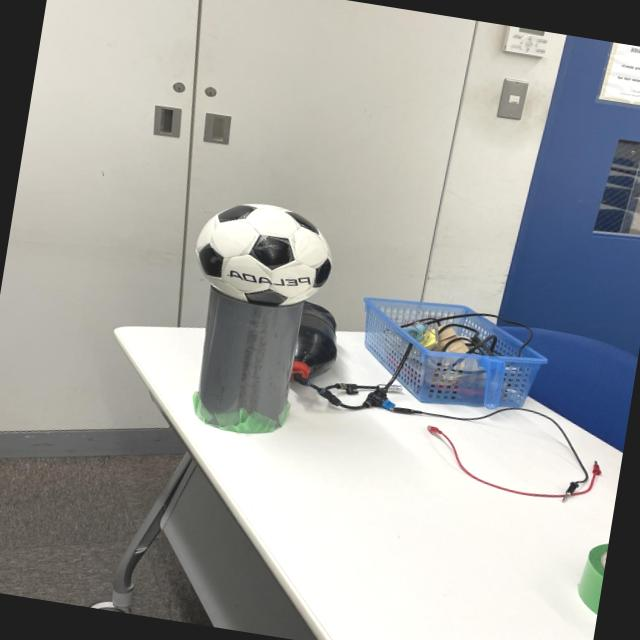Soccer Ball: (192, 194, 342, 312)
